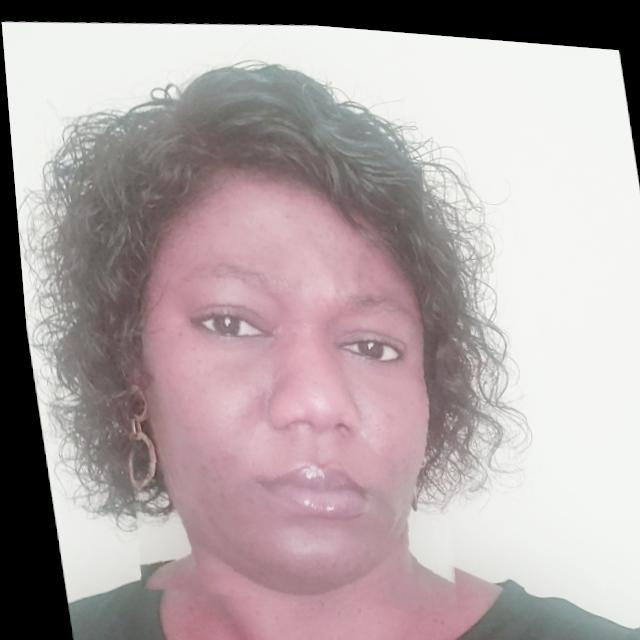sad: (78, 118, 471, 624)
